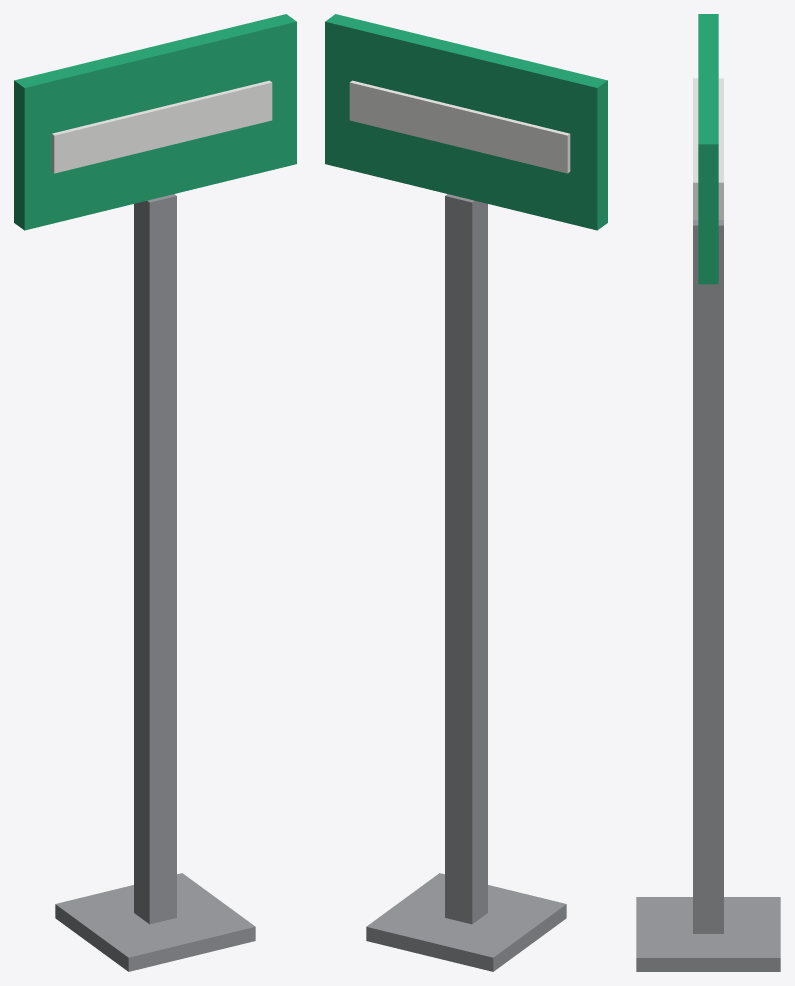
File: placeholder_exit_sign.glb
The picture shows the model from 3 angles, left to right: view 1: azimuth 30°, elevation 25°; view 2: azimuth 150°, elevation 25°; view 3: azimuth 270°, elevation 25°; orthographic projection.
Visible parts, largest first — view 1: ExitSign; view 2: ExitSign; view 3: ExitSign.
Part boxes in pixels (x1,y1,x2,y2): ExitSign: (14, 14, 296, 971); ExitSign: (325, 14, 607, 971); ExitSign: (636, 14, 780, 971).
Size of the model in its own units: 0.6 by 1.85 by 0.28.
